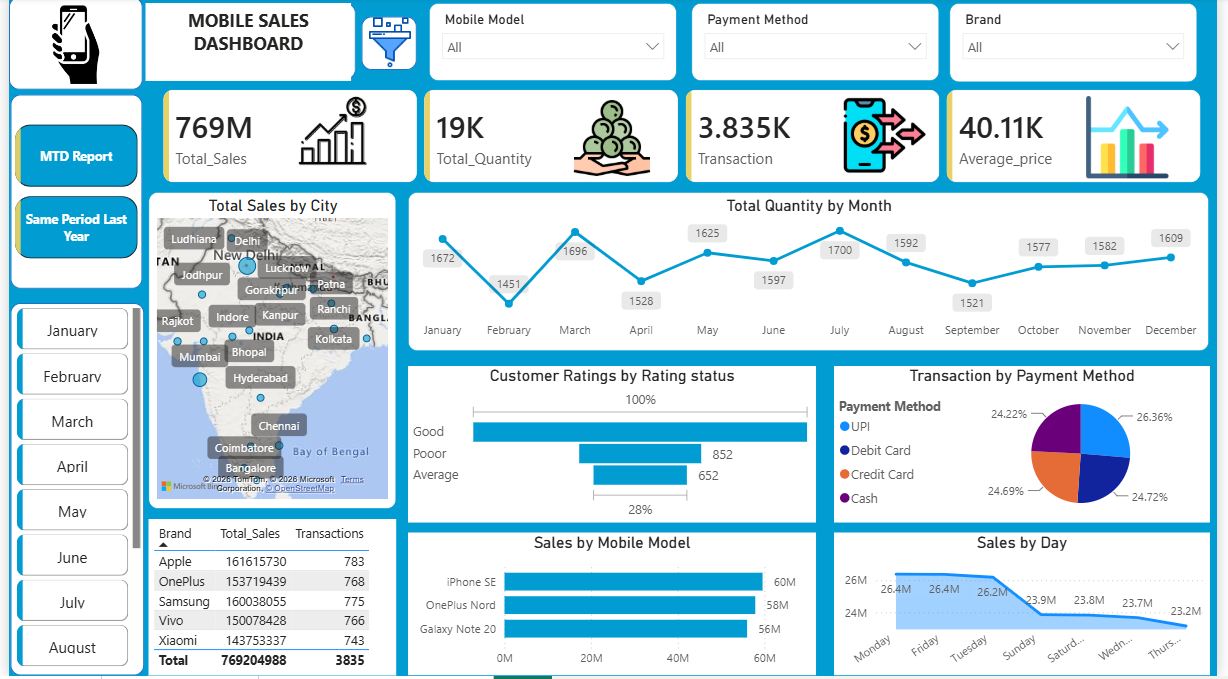

The page's visual inventory and layout, read from the dashboard file:
{"tool":"powerbi","page":{"name":"Dashboard","canvas":[1280,720],"ordinal":0},"visuals":[{"type":"shape","box":[0,0,141.7,98.3],"z":0},{"type":"shape","box":[1.9,103.9,139.8,206],"z":1000},{"type":"shape","box":[1.9,325,141.7,395],"z":2000},{"type":"advancedSlicerVisual","fields":{"Values":["Custom_Calendar.Date.Variation.Date Hierarchy.Month"]},"box":[3.8,325,141.7,395],"z":3000},{"type":"cardVisual","fields":{"Data":["Sales_data.Total_Sales","Sales_data.Total_Quantity","CountNonNull(Sales_data.Transaction ID)","Sales_data.Average_price"]},"box":[145.7,81.4,1134.3,132.9],"z":4000},{"type":"image","box":[275.9,98.3,136.1,86.9],"z":5000},{"type":"image","box":[571,106.6,136.8,85.9],"z":6000},{"type":"image","box":[859.8,103.9,136.1,86.9],"z":7000},{"type":"image","box":[1118.6,104.3,135.7,87.1],"z":8000},{"type":"slicer","fields":{"Values":["Sales_data.Mobile Model"]},"box":[445.7,7.1,262.9,82.9],"z":9000},{"type":"slicer","fields":{"Values":["Sales_data.Brand"]},"box":[997.3,6.4,262.5,84.3],"z":10000},{"type":"slicer","fields":{"Values":["Sales_data.Payment Method"]},"box":[724.3,7.1,262.9,82.9],"z":11000},{"type":"shape","box":[374.2,20.8,58.6,56.7],"z":12000},{"type":"image","box":[362.8,20.8,83.2,54.8],"z":13000},{"type":"shape","box":[145.5,5.7,223,81.3],"z":14000},{"type":"textbox","box":[144.7,6.4,217.9,82.7],"z":15000},{"type":"map","title":"Total Sales by City","fields":{"Category":["Sales_data.City"],"Size":["Sales_data.Total_Sales"]},"box":[148.6,207.1,262.9,335.7],"z":16000},{"type":"lineChart","title":"Total Quantity by Month","fields":{"Category":["Custom_Calendar.Date.Variation.Date Hierarchy.Month"],"Y":["Sales_data.Total_Quantity"]},"box":[423.1,206.8,849.4,168.6],"z":17000},{"type":"funnel","title":"Customer Ratings by Rating status","fields":{"Category":["Sales_data.Rating status"],"Y":["CountNonNull(Sales_data.Customer Ratings)"]},"box":[422.9,391.4,432.9,165.7],"z":18000},{"type":"pieChart","title":"Transaction by Payment Method","fields":{"Y":["CountNonNull(Sales_data.Transaction ID)"],"Category":["Sales_data.Payment Method"]},"box":[874.3,391.4,398.6,165.7],"z":19000},{"type":"clusteredBarChart","title":"Sales by Mobile Model","fields":{"Y":["Sales_data.Total_Sales"],"Category":["Sales_data.Mobile Model"]},"box":[423.1,567.8,432.6,151.1],"z":20000},{"type":"areaChart","title":"Sales by Day","fields":{"Y":["Sales_data.Total_Sales"],"Category":["Custom_Calendar.Day Name"]},"box":[874.3,568.6,398.6,151.4],"z":21000},{"type":"tableEx","fields":{"Values":["Sales_data.Brand","Sales_data.Total_Sales","Sales_data.Transactions"]},"box":[148.6,554.3,262.9,165.7],"z":22000},{"type":"image","box":[35.7,7.1,71.4,90],"z":23000},{"type":"pageNavigator","box":[6.4,135.2,130.4,143.2],"z":24000}]}

Visuals, with their boxes in screenshot pixels (x1, y1, x2, y2), scaled from the page's 1280x720 canvas onto the 1228x679 screenshot:
shape: x1=0 y1=0 x2=136 y2=93
shape: x1=2 y1=98 x2=136 y2=292
shape: x1=2 y1=306 x2=138 y2=678
advancedSlicerVisual - Custom_Calendar.Date.Variation.Date Hierarchy.Month: x1=4 y1=306 x2=140 y2=678
cardVisual - Sales_data.Total_Sales x Sales_data.Total_Quantity: x1=140 y1=77 x2=1227 y2=202
image: x1=265 y1=93 x2=395 y2=175
image: x1=548 y1=101 x2=679 y2=182
image: x1=825 y1=98 x2=955 y2=180
image: x1=1073 y1=98 x2=1203 y2=181
slicer - Sales_data.Mobile Model: x1=428 y1=7 x2=680 y2=85
slicer - Sales_data.Brand: x1=957 y1=6 x2=1209 y2=86
slicer - Sales_data.Payment Method: x1=695 y1=7 x2=947 y2=85
shape: x1=359 y1=20 x2=415 y2=73
image: x1=348 y1=20 x2=428 y2=71
shape: x1=140 y1=5 x2=354 y2=82
textbox: x1=139 y1=6 x2=348 y2=84
"Total Sales by City" map: x1=143 y1=195 x2=395 y2=512
"Total Quantity by Month" lineChart: x1=406 y1=195 x2=1221 y2=354
"Customer Ratings by Rating status" funnel: x1=406 y1=369 x2=821 y2=525
"Transaction by Payment Method" pieChart: x1=839 y1=369 x2=1221 y2=525
"Sales by Mobile Model" clusteredBarChart: x1=406 y1=535 x2=821 y2=678
"Sales by Day" areaChart: x1=839 y1=536 x2=1221 y2=678
tableEx - Sales_data.Brand x Sales_data.Total_Sales: x1=143 y1=523 x2=395 y2=678
image: x1=34 y1=7 x2=103 y2=92
pageNavigator: x1=6 y1=128 x2=131 y2=263
